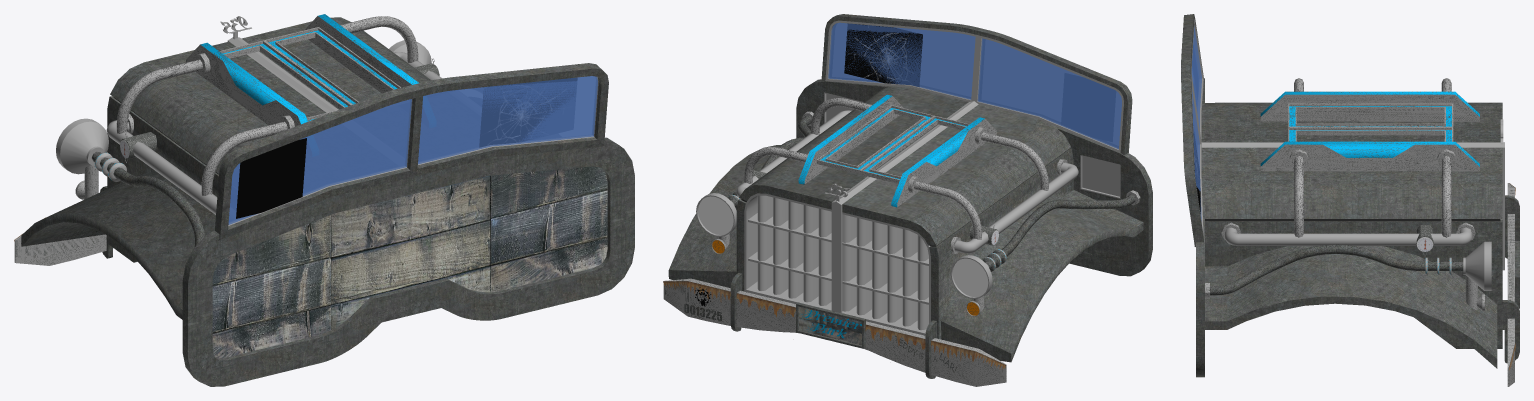
Rendered from Zerocar.dae.
The picture shows the model from 3 angles, left to right: view 1: azimuth 30°, elevation 25°; view 2: azimuth 150°, elevation 25°; view 3: azimuth 270°, elevation 25°; orthographic projection. The views are drawn at different scales.
Visible parts, largest first — view 1: SketchUp (×12), Light (×14), image_7, image_8, Bumper; view 2: SketchUp (×11), Light (×19), Bumper, image_8, Component_1 (×2), image_2, image_1; view 3: SketchUp (×9), Light (×18), Bumper, Component_1.
Boxes of the visible parts, bbox=[...] form: SketchUp (×12): bbox=[21, 17, 634, 386]; Light (×14): bbox=[56, 14, 418, 247]; image_7: bbox=[236, 138, 306, 218]; image_8: bbox=[479, 64, 578, 146]; Bumper: bbox=[14, 234, 113, 265]; SketchUp (×11): bbox=[668, 14, 1152, 378]; Light (×19): bbox=[698, 94, 1135, 296]; Bumper: bbox=[663, 278, 1006, 386]; image_8: bbox=[844, 16, 922, 86]; Component_1 (×2): bbox=[796, 302, 865, 348]; image_2: bbox=[865, 325, 925, 349]; image_1: bbox=[736, 293, 795, 316]; SketchUp (×9): bbox=[1181, 14, 1519, 377]; Light (×18): bbox=[1210, 91, 1491, 309]; Bumper: bbox=[1507, 183, 1514, 386]; Component_1: bbox=[1515, 241, 1519, 308].
Bounding box in the file's own units: 71.78 × 54.15 × 42.43.
Materials: 14 (8 with a texture image).
